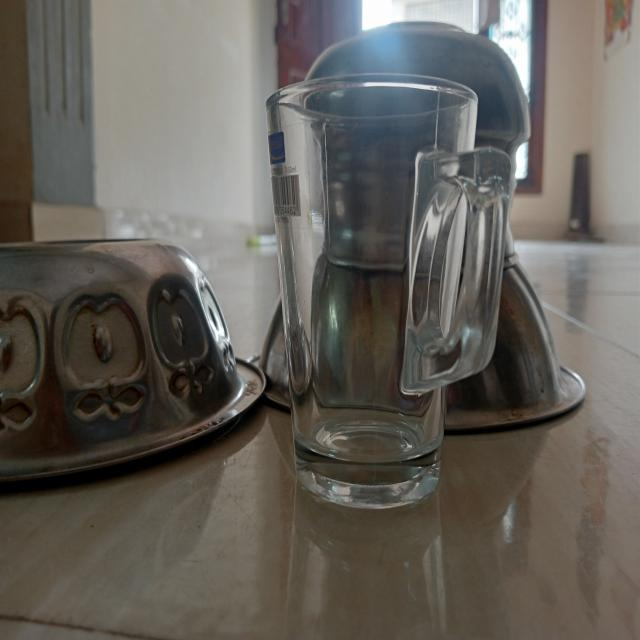glass-VX4N: (270, 74, 508, 514)
